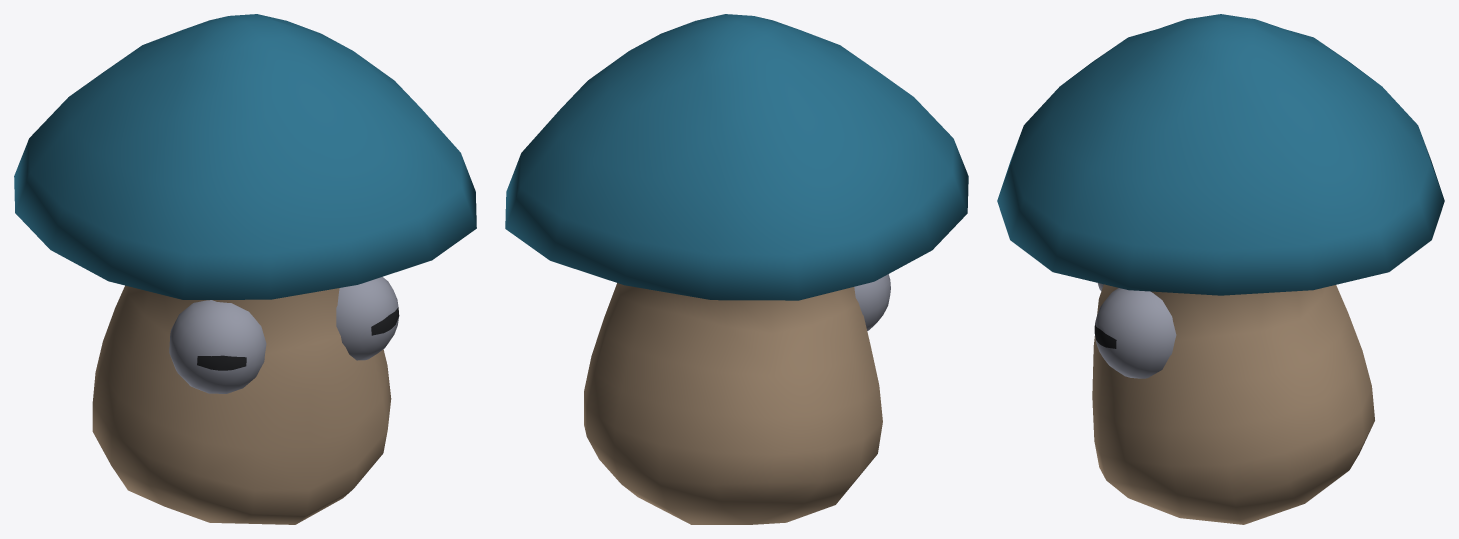
The model's file is cc0-mushnub-lod0.glb.
3 views of the same model, side by side, from view 1: azimuth 30°, elevation 25°; view 2: azimuth 150°, elevation 25°; view 3: azimuth 270°, elevation 25° (orthographic).
Parts seen in each view (by area): view 1: part_4; view 2: part_4; view 3: part_4.
Part boxes in pixels (box(x1,y1,x2,y2)): part_4: box(14, 14, 476, 524); part_4: box(505, 14, 968, 524); part_4: box(997, 14, 1444, 524).
Bounding box in the file's own units: 2.75 × 3.3 × 2.75.
Materials: 1 (1 with a texture image).
